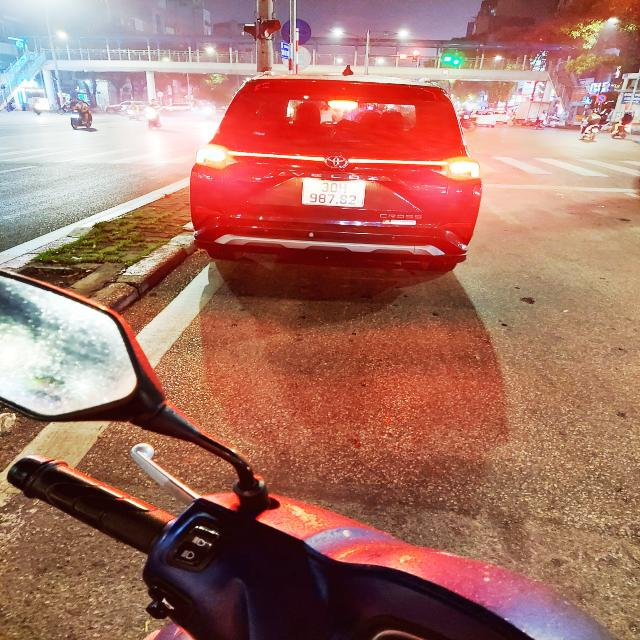license_plate: (300, 177, 370, 212)
